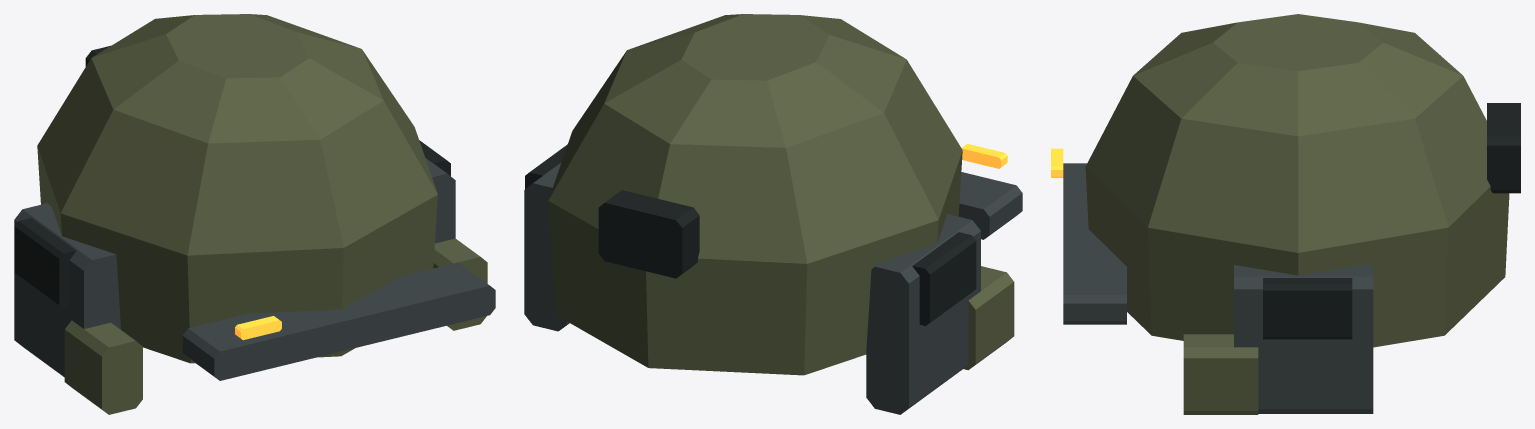
Rendered from SteelHelmet.gltf.
3 views of the same model, side by side, from view 1: azimuth 30°, elevation 25°; view 2: azimuth 150°, elevation 25°; view 3: azimuth 270°, elevation 25° (orthographic). The views are drawn at different scales.
Visible parts, largest first — view 1: Helmet; view 2: Helmet; view 3: Helmet.
Boxes of the visible parts, x1,y1,x2,y2 form: Helmet: [14, 14, 495, 414]; Helmet: [524, 14, 1022, 414]; Helmet: [1051, 14, 1520, 414].
Size of the model in its own units: 0.334 by 0.232 by 0.347.
